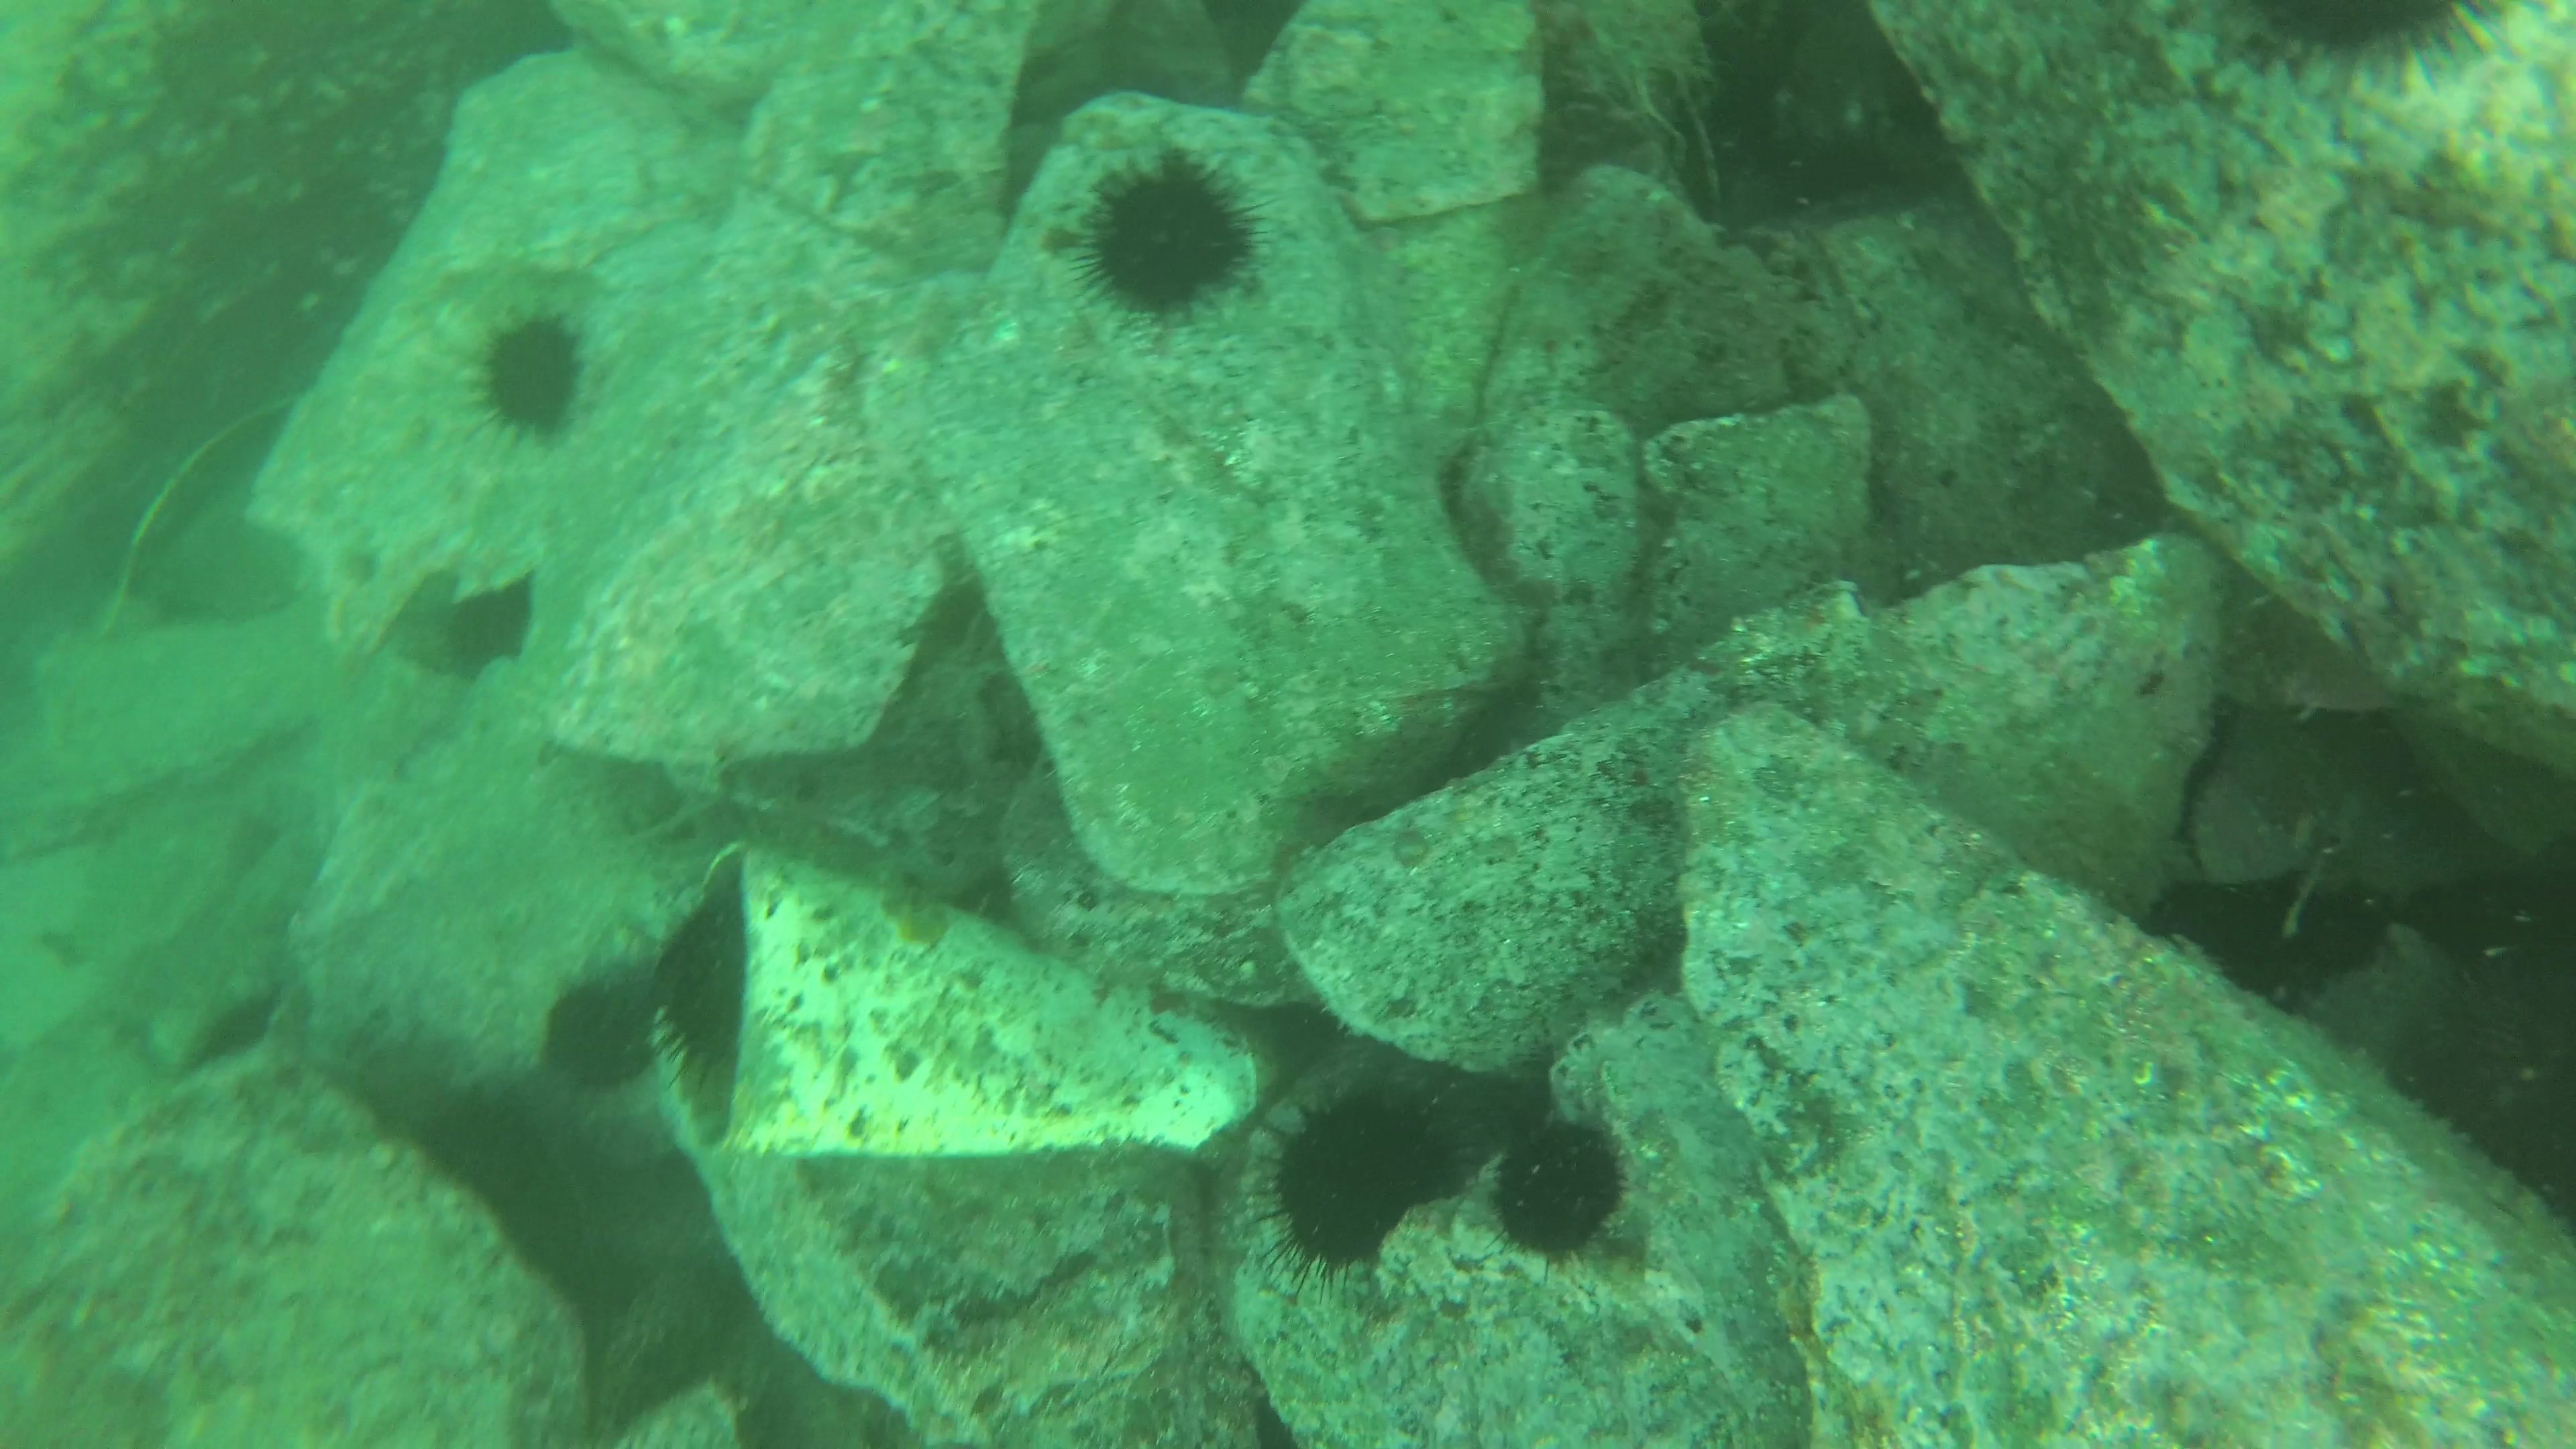echinus: (1079, 165, 1254, 327), (1260, 1102, 1422, 1267), (1500, 1125, 1626, 1265), (649, 918, 750, 1065), (474, 313, 582, 449), (541, 984, 656, 1092)
